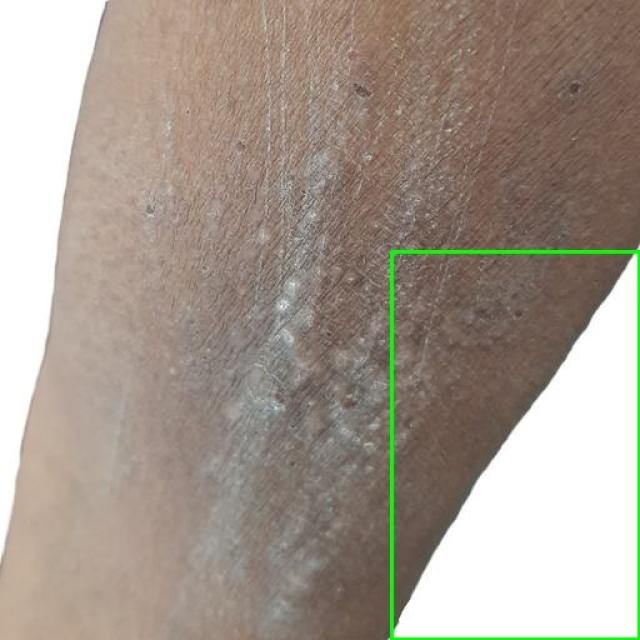Eczema: (391, 251, 639, 639)
